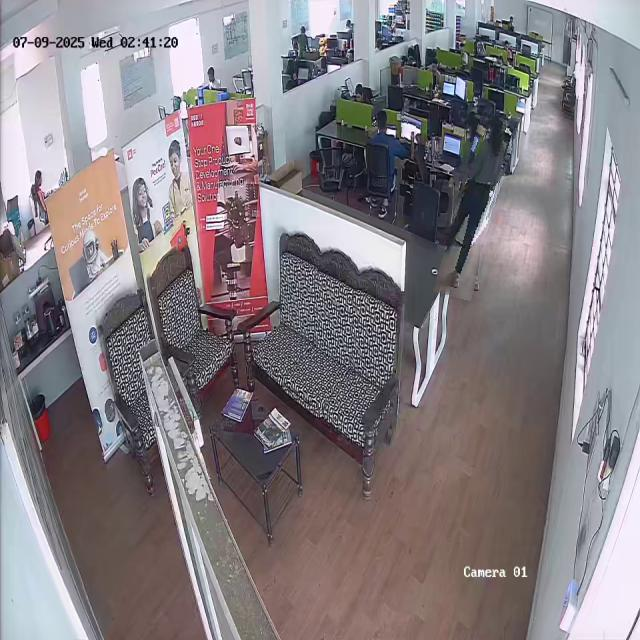person: (445, 114, 506, 300), (370, 108, 410, 203), (33, 168, 51, 216)
